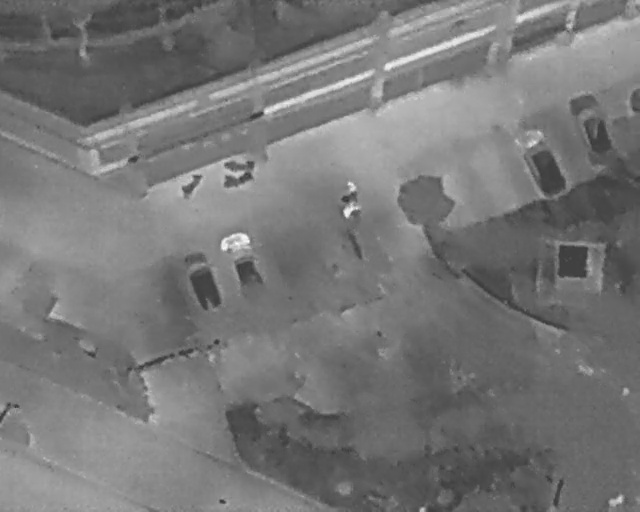Bicycle: (175, 168, 206, 202), (219, 167, 257, 192), (223, 159, 257, 172)
Car: (509, 120, 572, 204), (562, 85, 624, 170), (215, 226, 270, 302), (176, 244, 227, 317)
Person: (341, 203, 361, 218), (345, 181, 357, 192)
